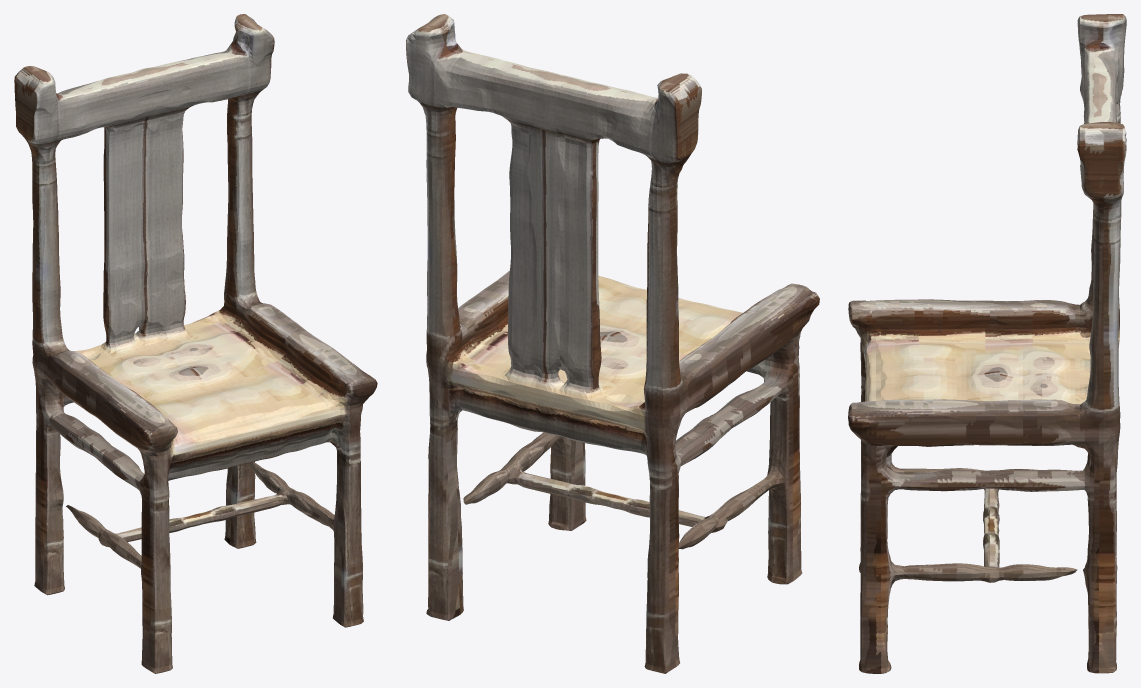
Rendered from chair_automated.obj.
3 renders of one model, left to right at view 1: azimuth 30°, elevation 25°; view 2: azimuth 150°, elevation 25°; view 3: azimuth 270°, elevation 25°, orthographic. The views are drawn at different scales.
Bounding box in the file's own units: 0.4861 × 1 × 0.4607.
1 material, 1 textured.
